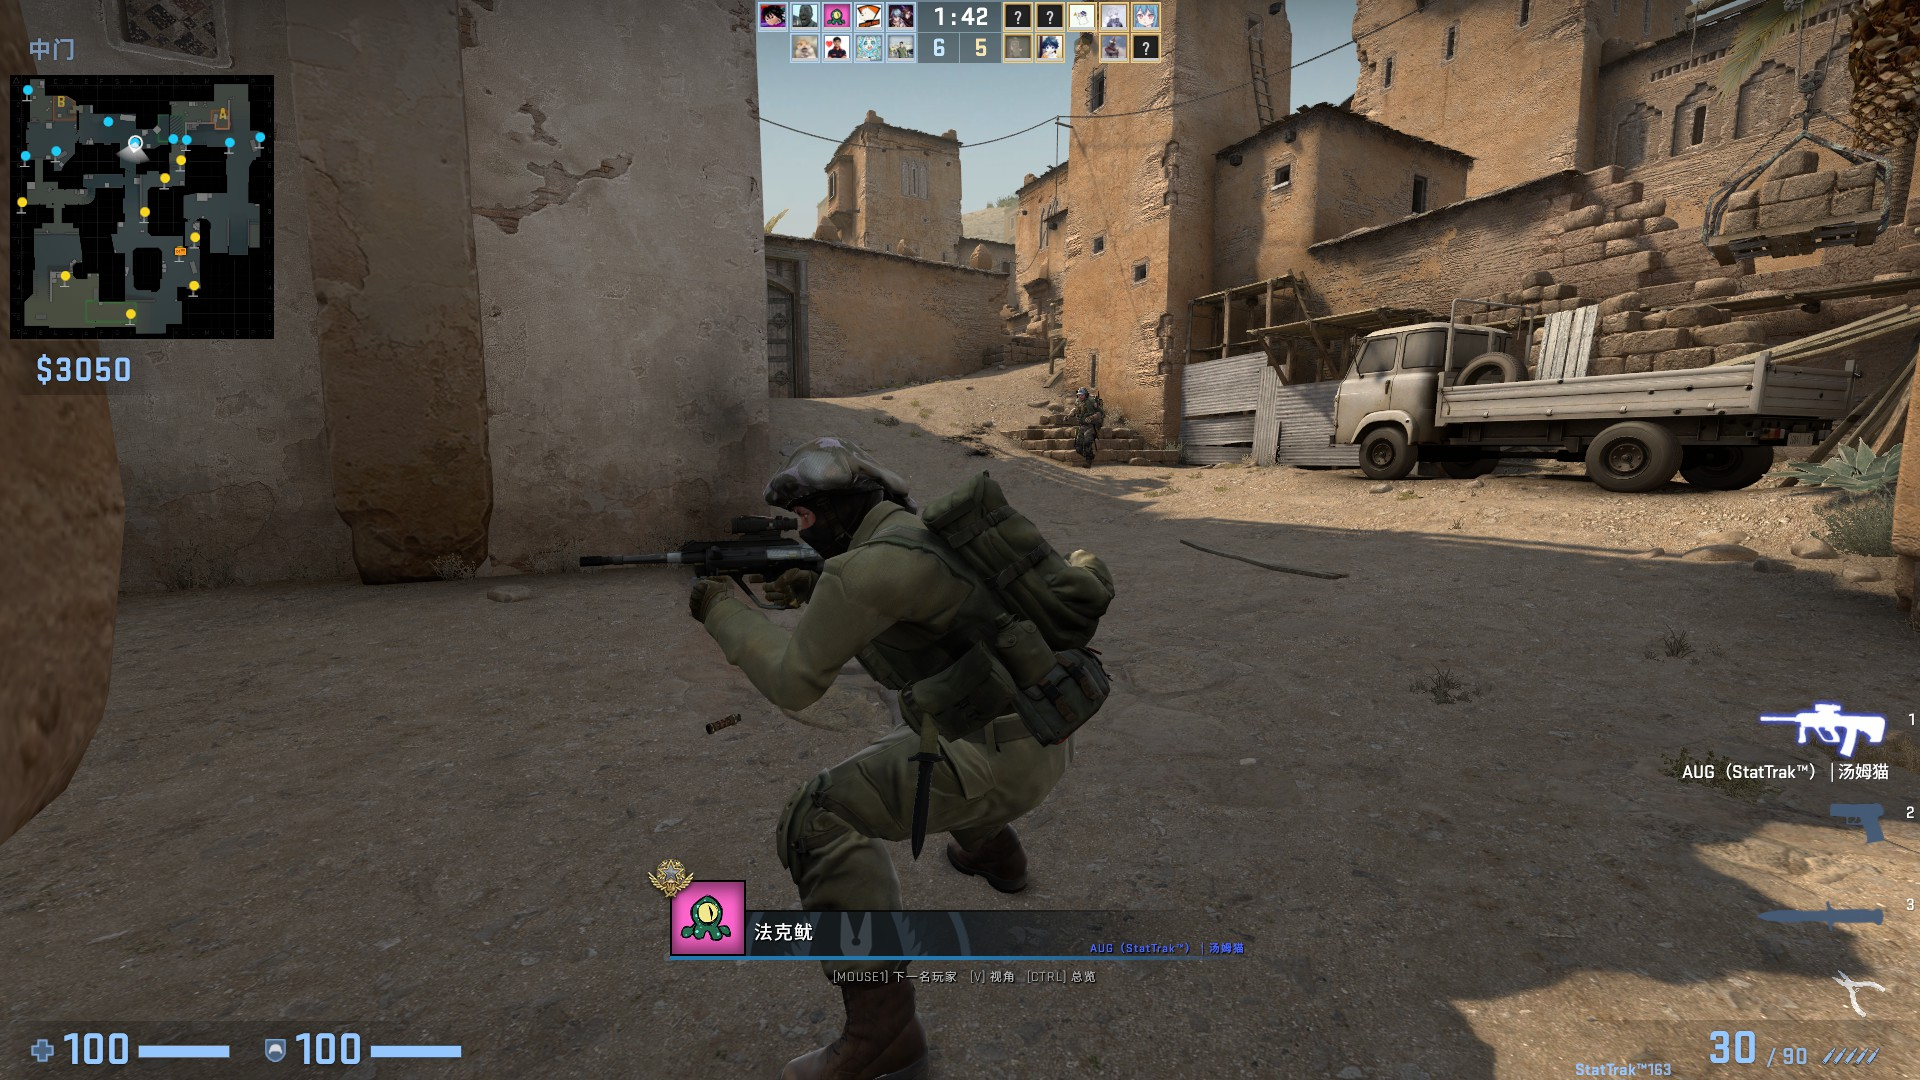head: (760, 435, 919, 538), (1074, 385, 1089, 401)
